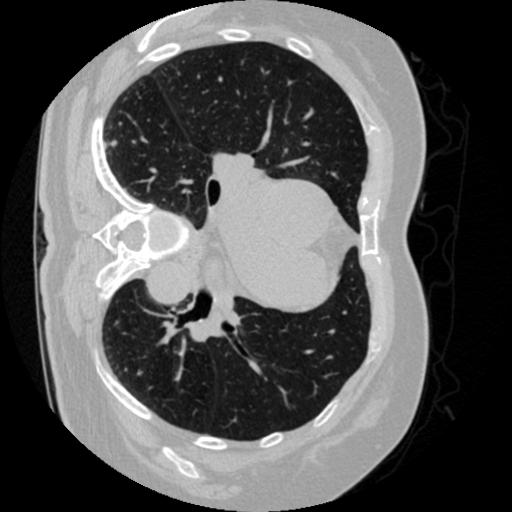nodule: (109, 137, 122, 150)
